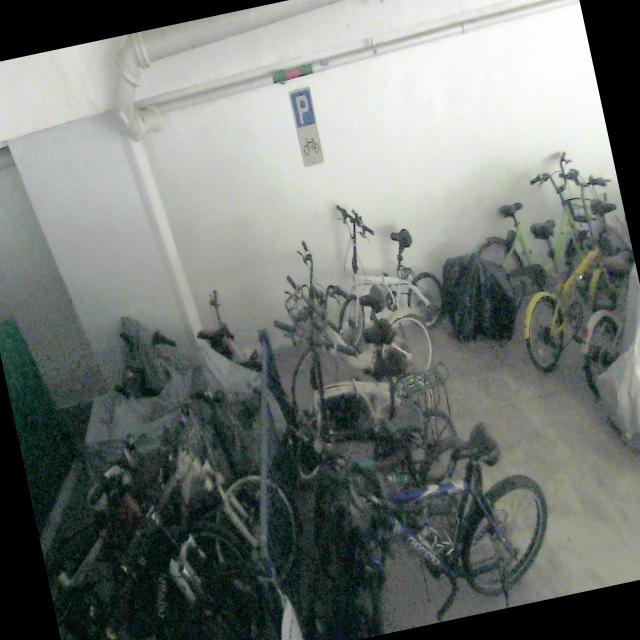bike: (325, 412, 564, 638), (284, 367, 496, 568), (260, 216, 440, 409), (266, 289, 446, 481), (490, 157, 640, 373), (456, 143, 623, 335), (314, 186, 452, 352)
